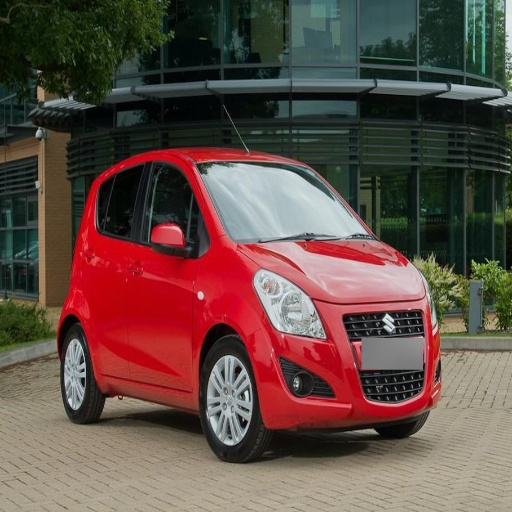front_bumper: (251, 297, 438, 432)
front_right_door: (130, 160, 206, 390)
front_right_light: (253, 269, 329, 340)
